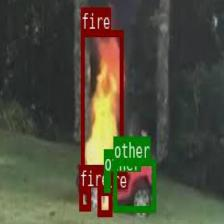fire: (80, 28, 123, 177), (97, 188, 111, 214), (79, 186, 90, 210)
